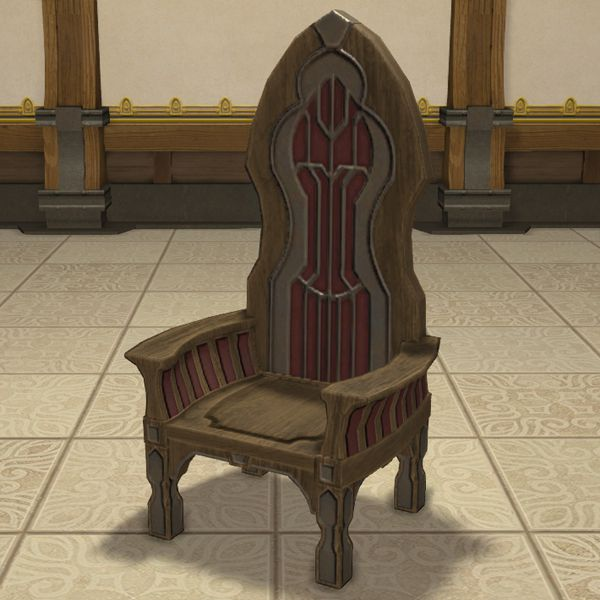chairs: (124, 11, 446, 593)
